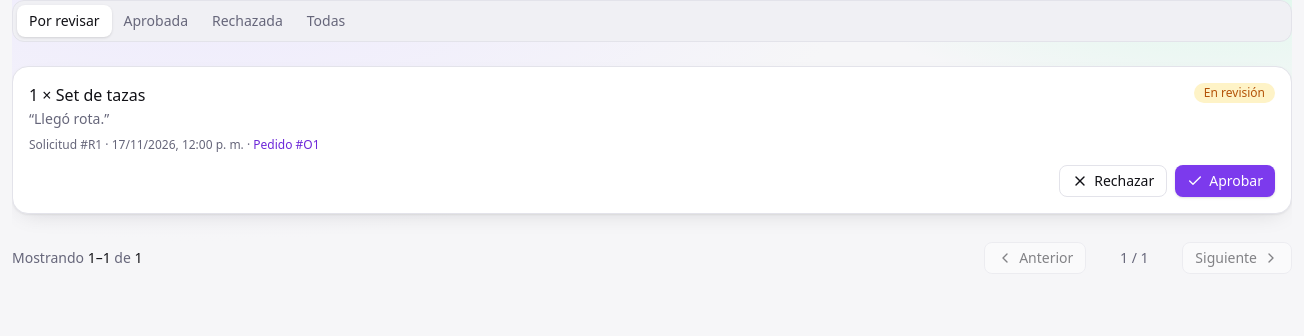
ReturnRequests › pide confirmación antes de aprobar y usa el singular para una unidad
This screenshot has width=1304, height=336.
Later steps or results of the test are not shown.
What coordinates should you click on to do the following:
click the button "Aprobar"
I would click on:
 (1225, 181)
Its box is [1175,165,1275,197].
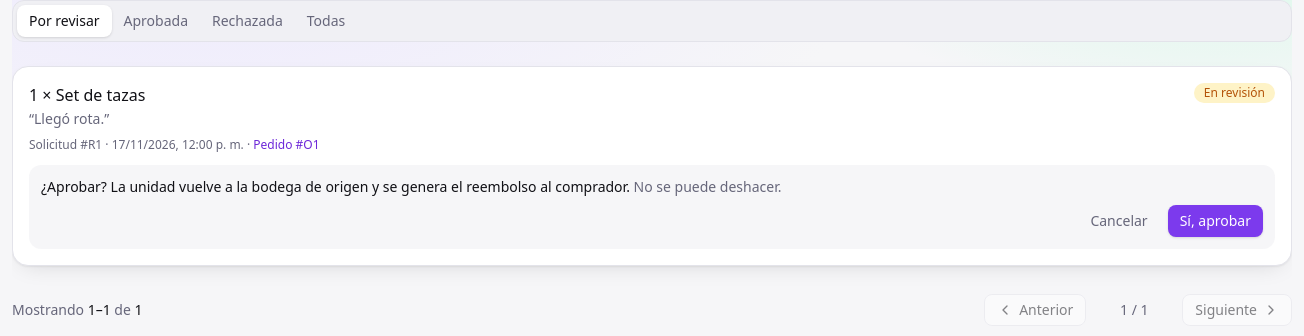
Result: the text "La unidad vuelve a la bodega de origen" is shown at [41,177,630,196]
